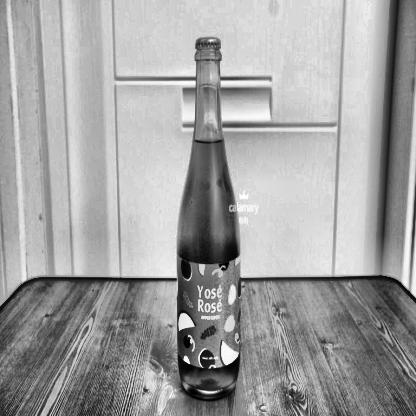yoserose: (176, 255, 242, 367)
